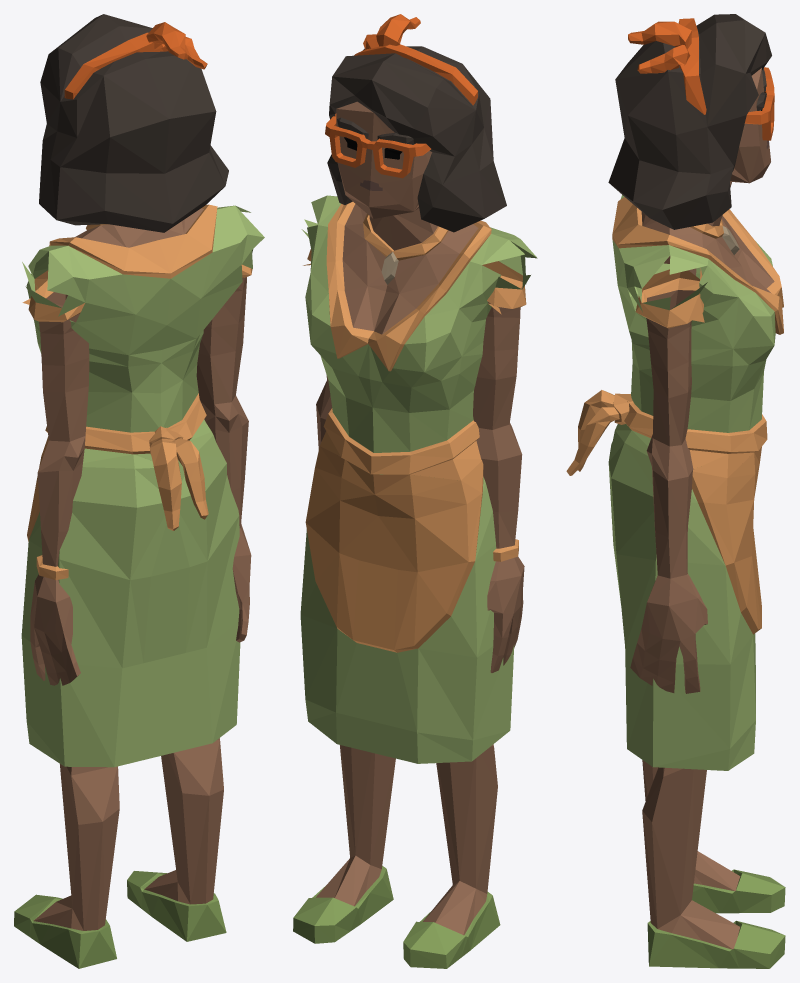
File: Demon_Mother_01_stand.obj
3 renders of one model, left to right at view 1: azimuth 30°, elevation 25°; view 2: azimuth 150°, elevation 25°; view 3: azimuth 270°, elevation 25°, orthographic. The views are drawn at different scales.
Parts seen in each view (by area): view 1: Demon_Mother_01_stand; view 2: Demon_Mother_01_stand; view 3: Demon_Mother_01_stand.
Boxes of the visible parts, x1,y1,x2,y2 form: Demon_Mother_01_stand: [14, 14, 264, 968]; Demon_Mother_01_stand: [293, 14, 537, 968]; Demon_Mother_01_stand: [566, 14, 785, 968].
Size of the model in its own units: 0.496 by 1.86 by 0.4009.
1 material, 1 textured.
